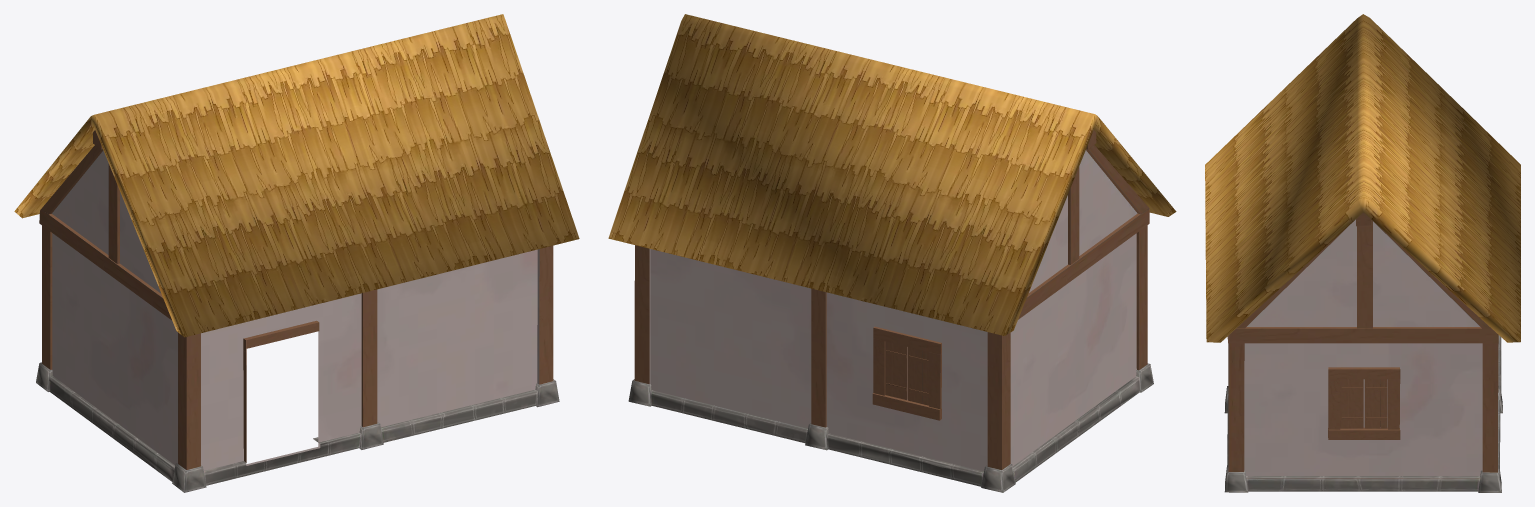
The model's file is thatched_farm.glb.
3 views of the same model, side by side, from view 1: azimuth 30°, elevation 25°; view 2: azimuth 150°, elevation 25°; view 3: azimuth 270°, elevation 25° (orthographic). The views are drawn at different scales.
Parts seen in each view (by area): view 1: roof, walls; view 2: roof, walls; view 3: roof, walls.
Boxes of the visible parts, left/top/right/bottom form: roof: left=14, top=14, right=579, bottom=337; walls: left=36, top=225, right=559, bottom=492; roof: left=608, top=14, right=1176, bottom=335; walls: left=628, top=225, right=1153, bottom=492; roof: left=1205, top=14, right=1520, bottom=343; walls: left=1224, top=335, right=1502, bottom=492.
Bounding box in the file's own units: 8.3 × 6.36 × 6.
1 material, 1 textured.
